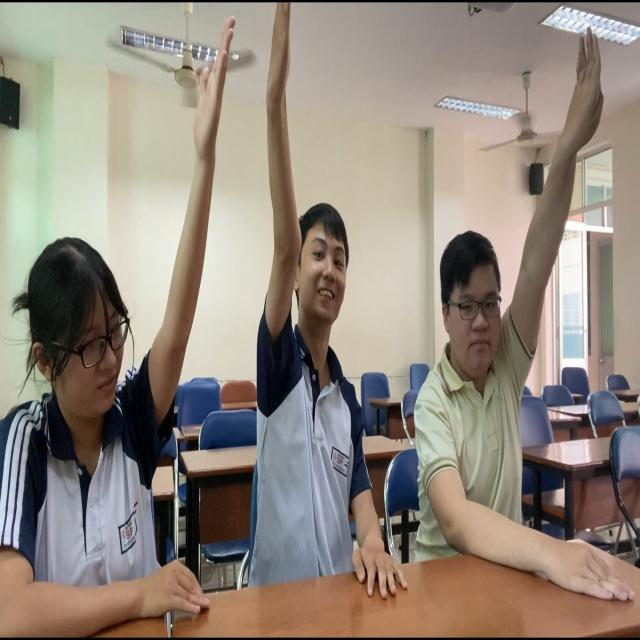raise_hand: (5, 21, 228, 635), (421, 26, 605, 597), (258, 2, 394, 616)
